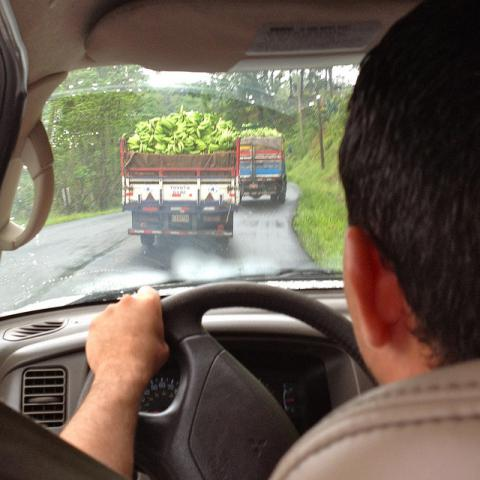truck: (119, 137, 241, 258), (241, 137, 292, 204)
